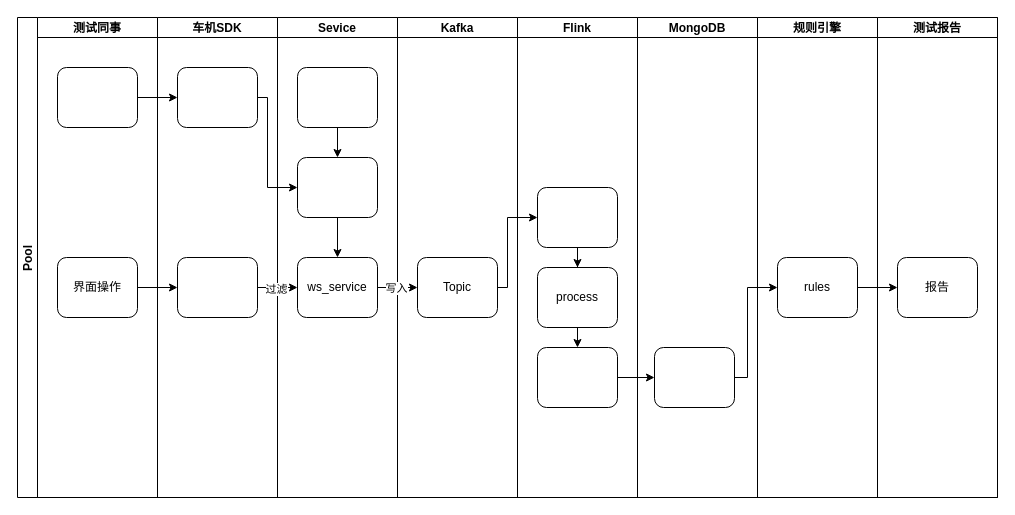
The diagram is 1015 pixels wide and 515 high, and some of its shapes have lost their labels. Each missing label, with the centre of its shape:
"collections" belongs at (x=694, y=377).
"sink" belongs at (x=577, y=377).
"source" belongs at (x=577, y=217).
"任务相关配置" belongs at (x=337, y=187).
"创建测试任务" belongs at (x=337, y=97).
"埋点上报" belongs at (x=217, y=287).
"打开Debug模式" belongs at (x=97, y=97).
"请求ws连接" belongs at (x=217, y=97).
